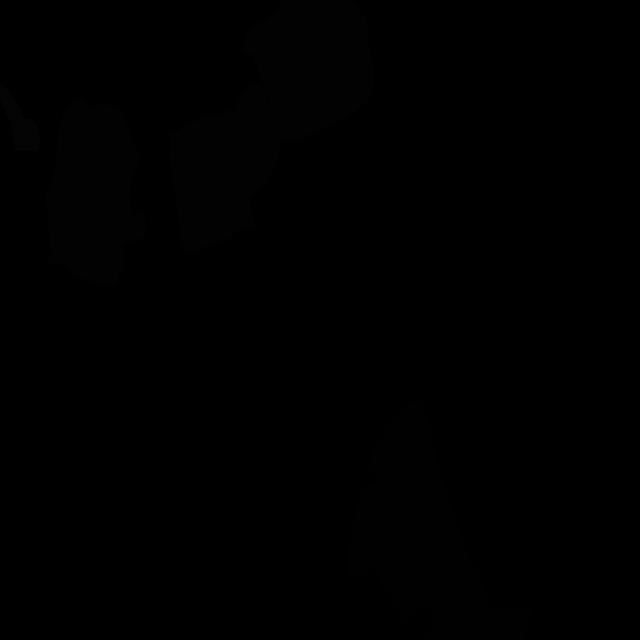cardboard: (45, 98, 146, 287), (241, 0, 374, 143), (169, 84, 281, 252)
rigid_plastic: (348, 399, 532, 640)
soft_plastic: (0, 83, 40, 151)
